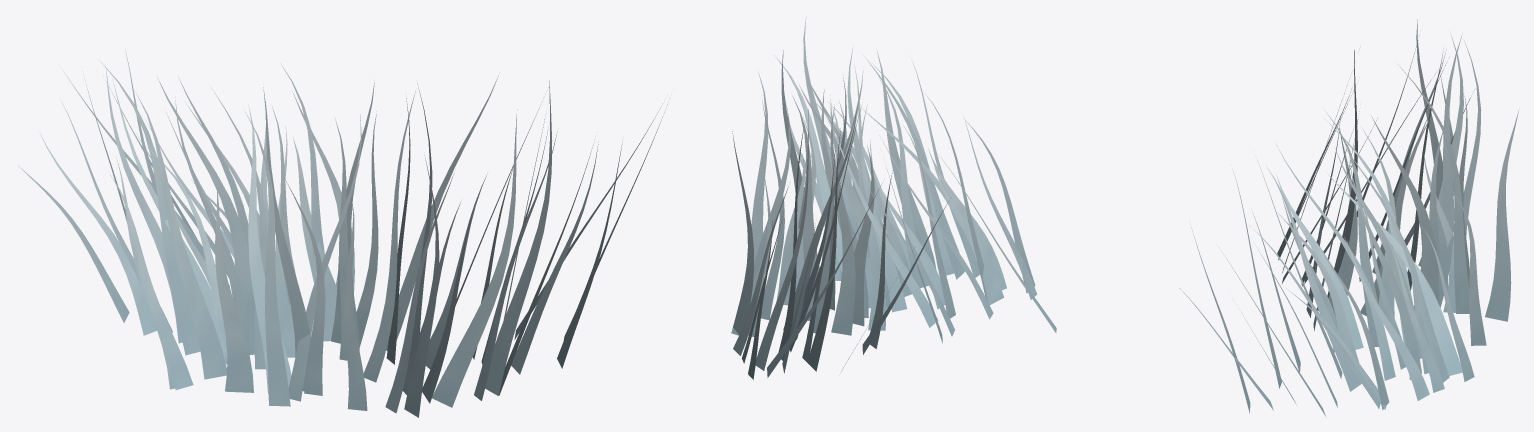
Rendered from mesh-plant-014-pearlgrass-tuft_LOD0.glb.
3 renders of one model, left to right at view 1: azimuth 30°, elevation 25°; view 2: azimuth 150°, elevation 25°; view 3: azimuth 270°, elevation 25°, orthographic. The views are drawn at different scales.
Parts seen in each view (by area): view 1: geometry_0; view 2: geometry_0; view 3: geometry_0.
Boxes of the visible parts, <box> form: geometry_0: <box>18,50,667,417</box>; geometry_0: <box>731,17,1056,379</box>; geometry_0: <box>1179,19,1518,417</box>.
Size of the model in its own units: 1.43 by 0.7439 by 1.13.
